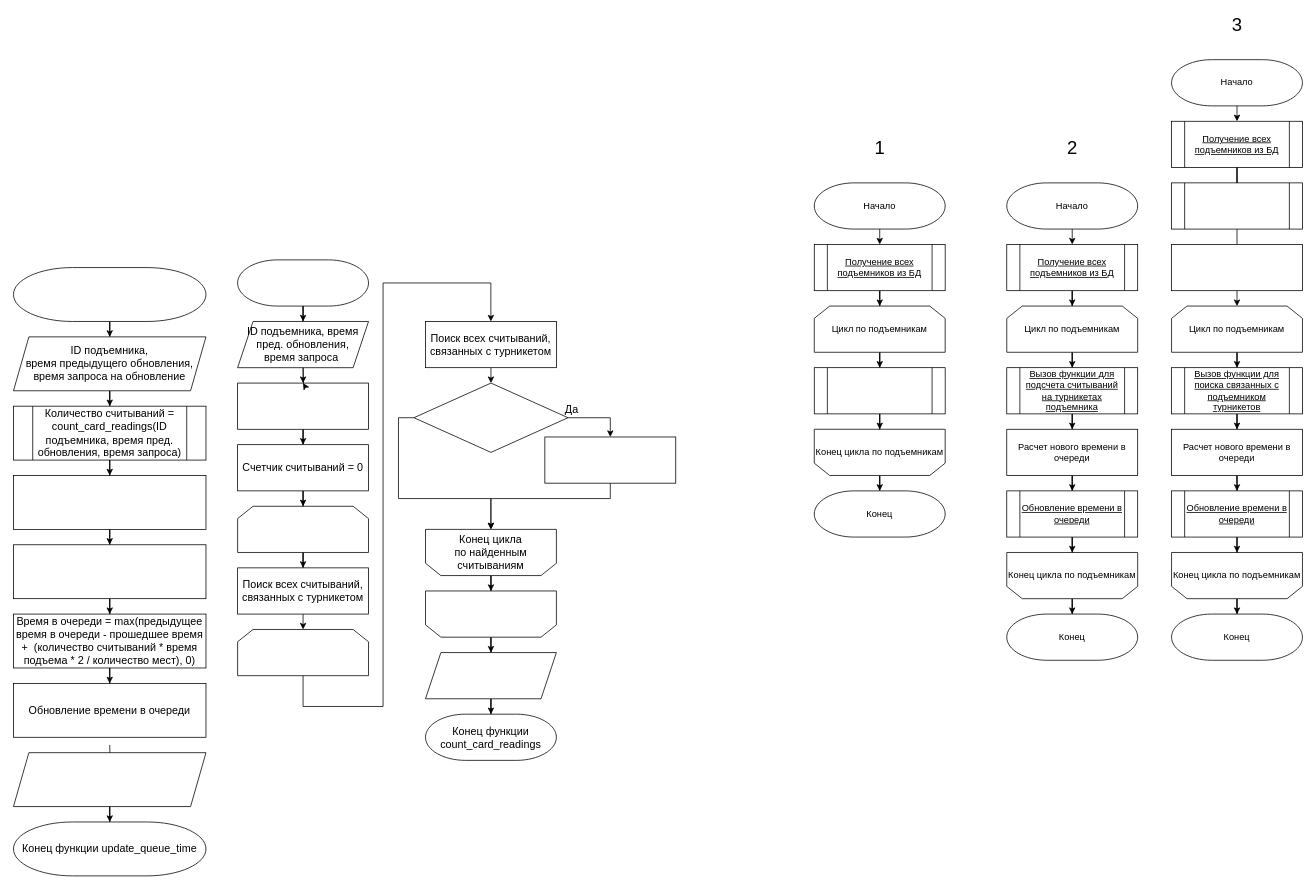
Image size: 1316x889. Some labels were removed from this diagram. Here are the shapes that lost their labels. From the top down, the centre of each, then its label:
At point (1236, 205): "Получение всех считываний из БД".
At point (303, 282): "Начало функции count_card_readings".
At point (1236, 267): "Удаление считываний, не попадающих в нужный промежуток времени".
At point (109, 294): "Начало функции update_queue_time".
At point (303, 405): "Поиск всех турникетов, связанных с подъемником".
At point (879, 390): "Вызов функции для расчета и обновления времени в очереди".
At point (490, 417): "Время считывания в указанном промежутке?".
At point (610, 459): "Инкремент счетчика считываний".
At point (109, 502): "Поиск подъемника с заданным ID".
At point (303, 529): "Цикл по найденным турникетам".
At point (109, 571): "Прошедшее время = время запроса на обновление - время предыдущего обновления".
At point (490, 613): "Конец цикла по найденным турникетам".
At point (303, 652): "Цикл по найденным считываниям".
At point (490, 675): "Счетчик считываний".
At point (109, 779): "Время в очереди".
